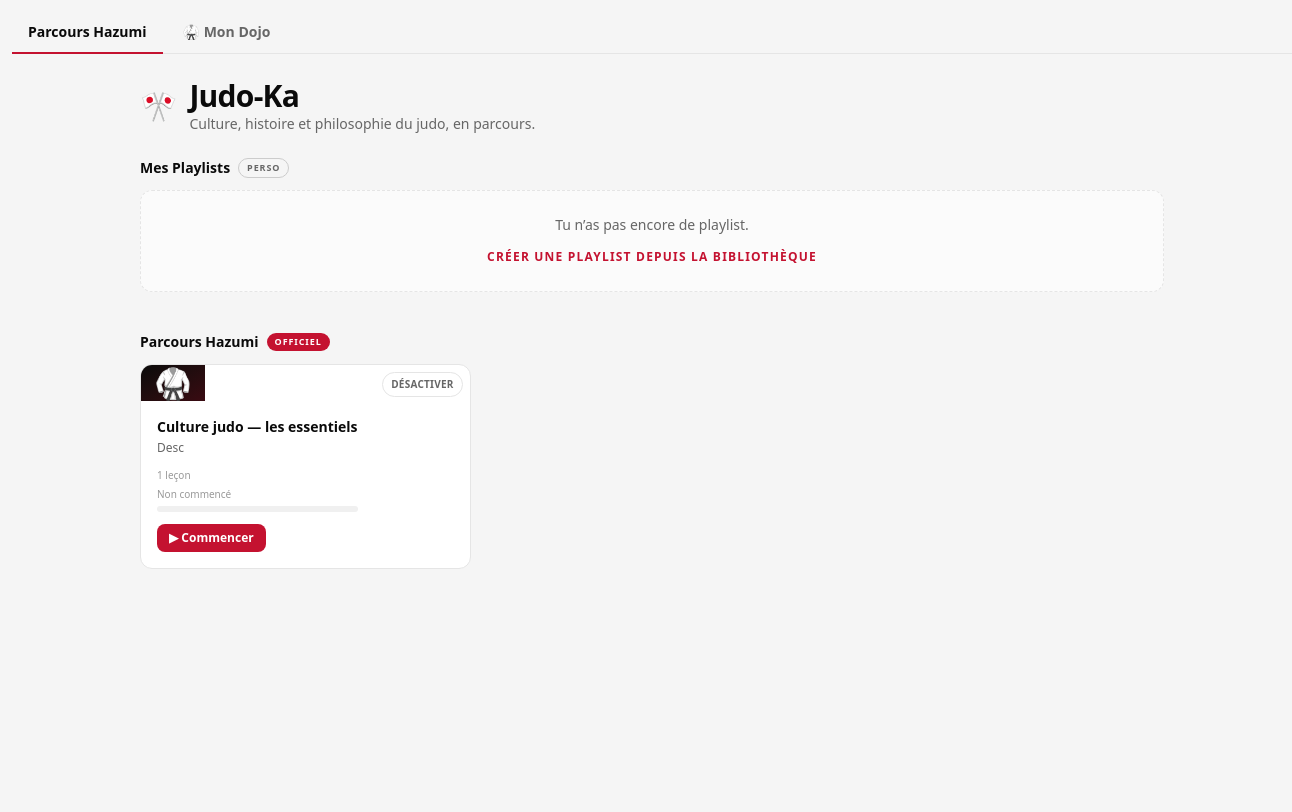
Scenario: Judo-Kâ — bascule parcours-first › ouvrir un parcours affiche ses ressources
Click the heading "Culture judo — les essentiels": (257, 427) [157,417,358,436]
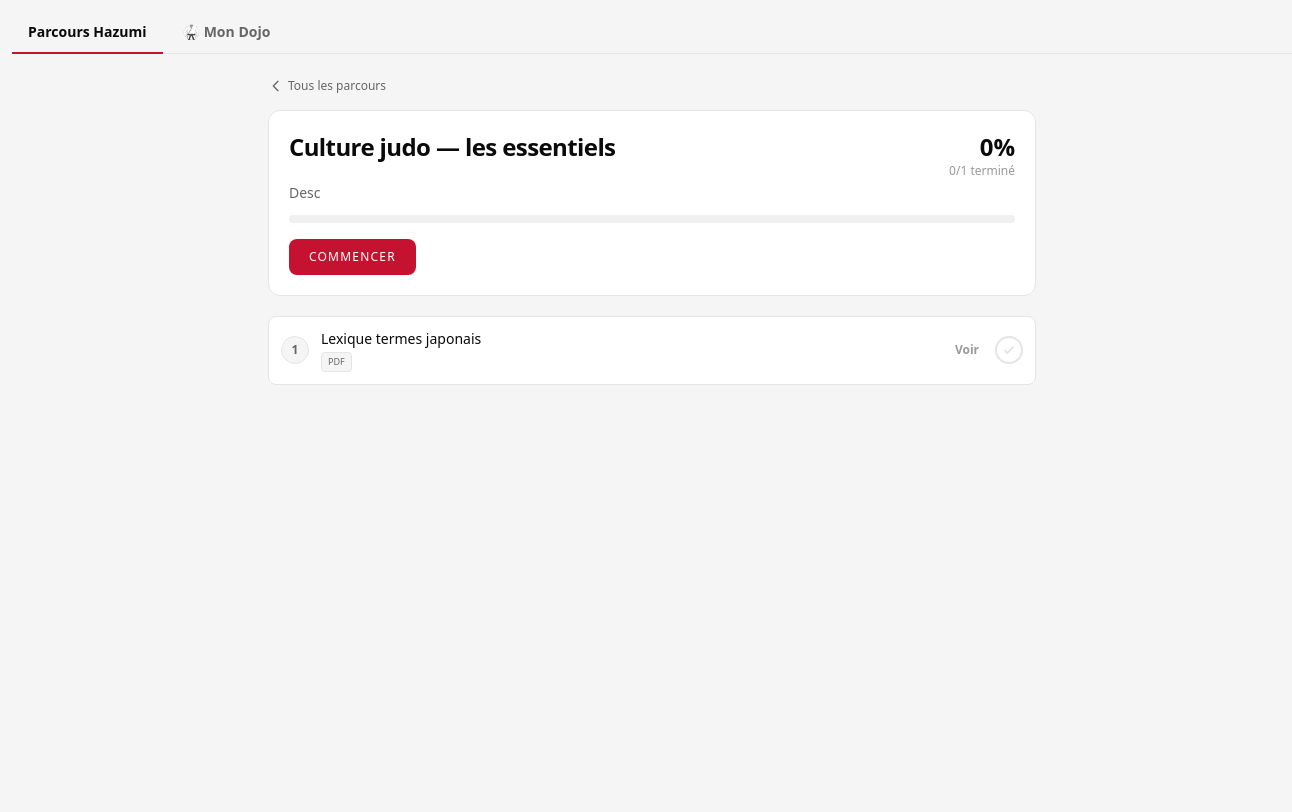
Now the heading "Lexique termes japonais" is shown, box [321,329,481,348]
